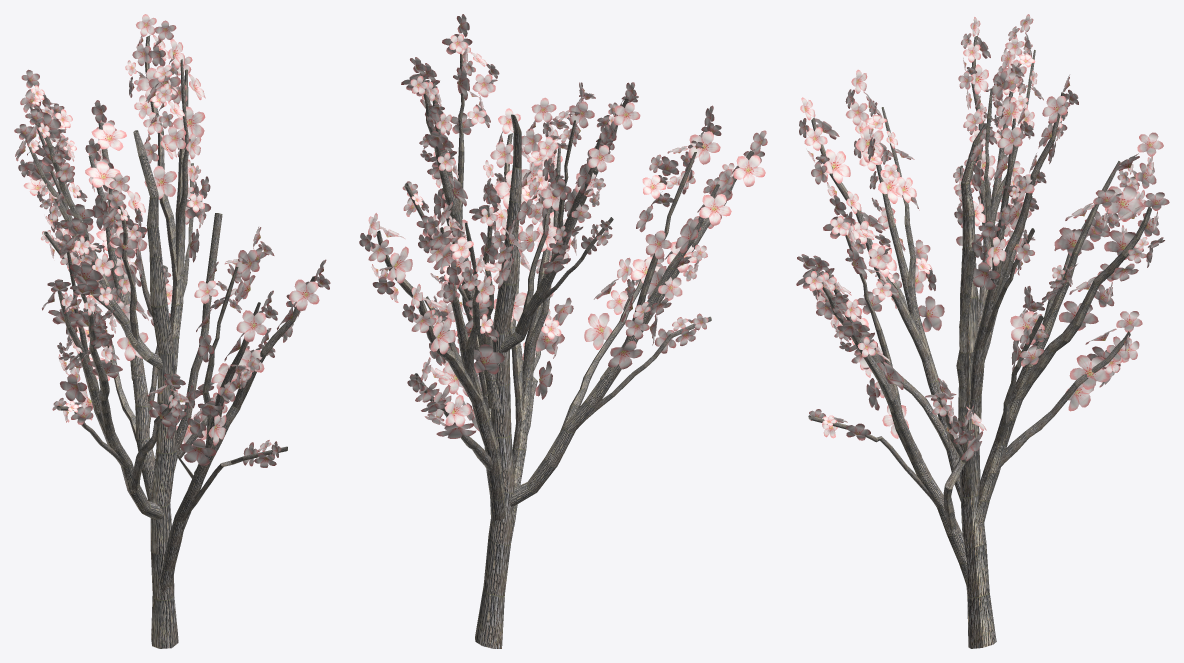
Rendered from Sakura.fbx.
3 views of the same model, side by side, from view 1: azimuth 30°, elevation 25°; view 2: azimuth 150°, elevation 25°; view 3: azimuth 270°, elevation 25° (orthographic). The views are drawn at different scales.
Visible parts, largest first — view 1: polySurface348; view 2: polySurface348; view 3: polySurface348.
Boxes of the visible parts, <box> form: polySurface348: <box>14,14,330,648</box>; polySurface348: <box>359,14,767,648</box>; polySurface348: <box>796,14,1169,648</box>.
Size of the model in its own units: 6.32 by 14.22 by 7.94.
